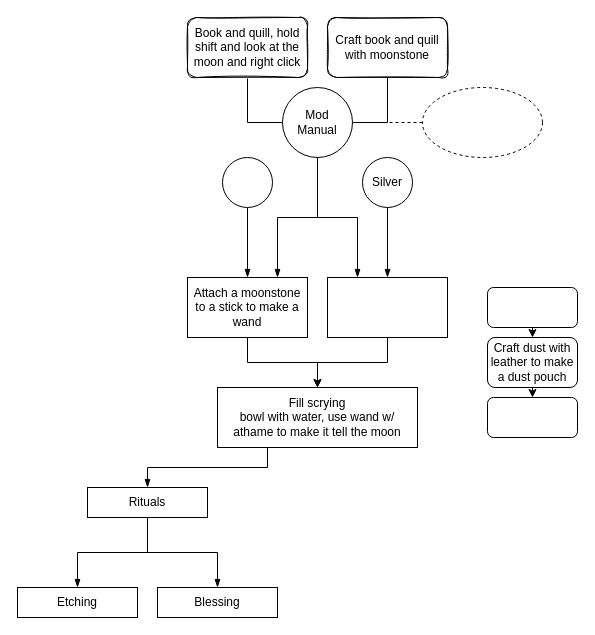
The diagram is 595 pixels wide and 635 high, and some of its shapes have lost their labels. The centre of each missing label's shape, as x and y in pixels:
"Attach silver to a stick to make an athame" belongs at (x=387, y=307).
"Moon stone" belongs at (x=247, y=182).
"Shift-left click on a mod item to reveal an entry about it" belongs at (x=482, y=122).
"Smash coal into dust" belongs at (x=532, y=307).
"Use dust for things" belongs at (x=532, y=417).
